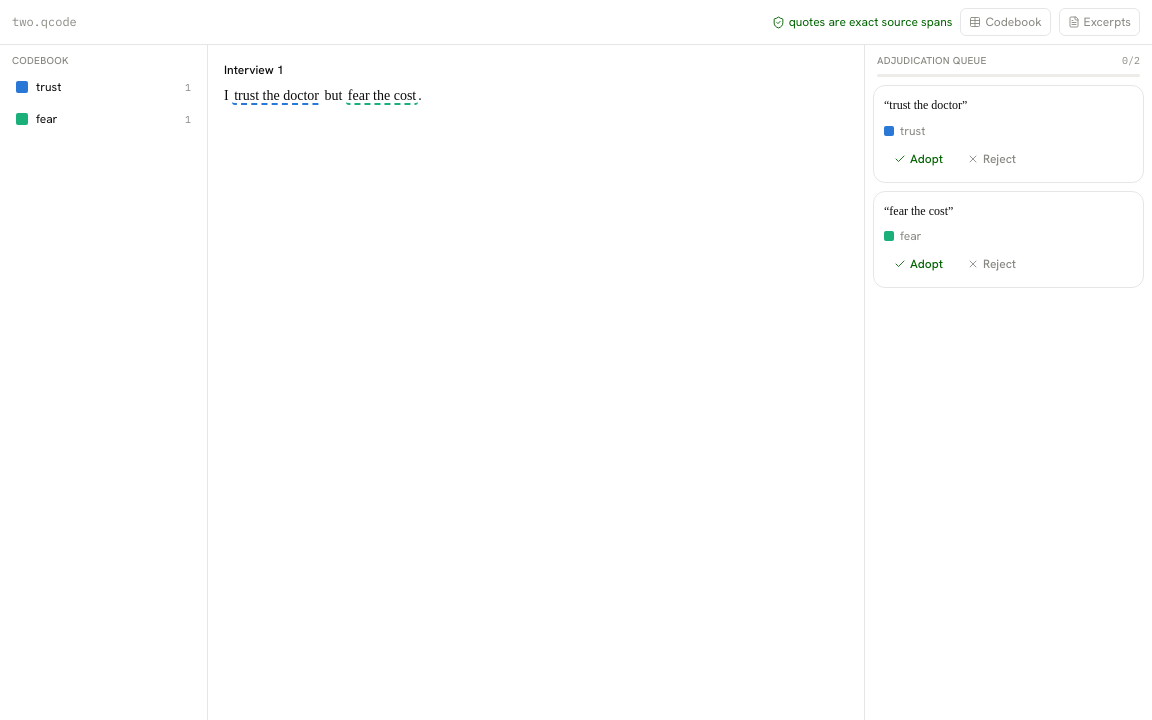
Test: QCodeWorkbench › rejects one candidate while another is focused without a stale index
This screenshot has width=1152, height=720.
Note: focus the later candidate (index 1) — the index most at risk of going stale
Click the text "“fear the cost”". click: (919, 210)
box: x1=884 y1=204 x2=953 y2=218
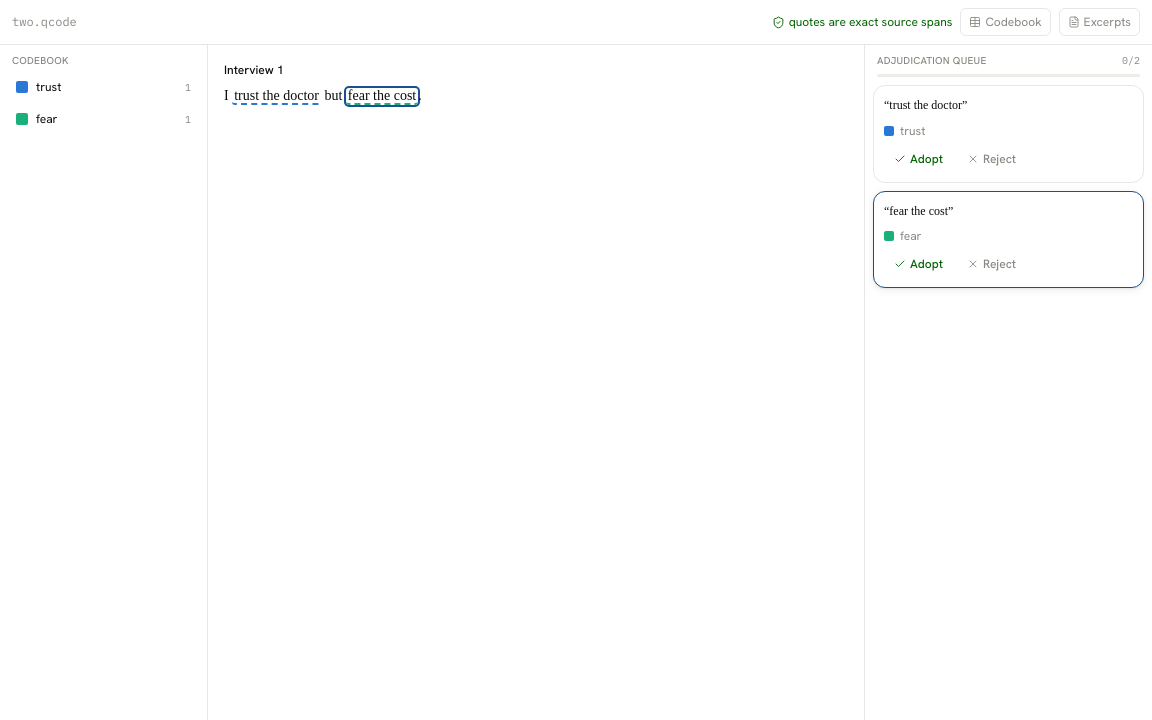
Note: reject the first candidate (index 0), shifting the array under the focus
Click the 1st button "Reject". click: (992, 158)
box: x1=957 y1=146 x2=1026 y2=172
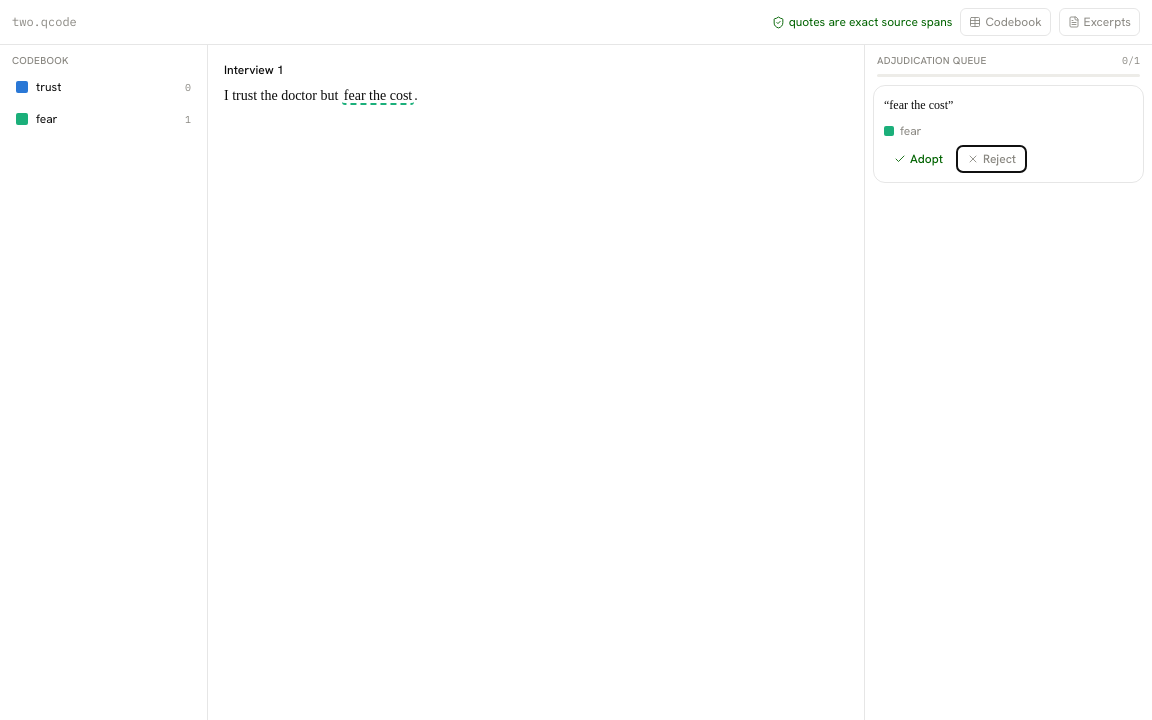
Expected: the text "“trust the doctor”" is gone
Expected: the text "“fear the cost”" is shown, x1=884 y1=98 x2=953 y2=112
